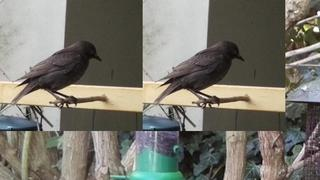starling: (11, 40, 103, 109), (154, 40, 245, 109)
